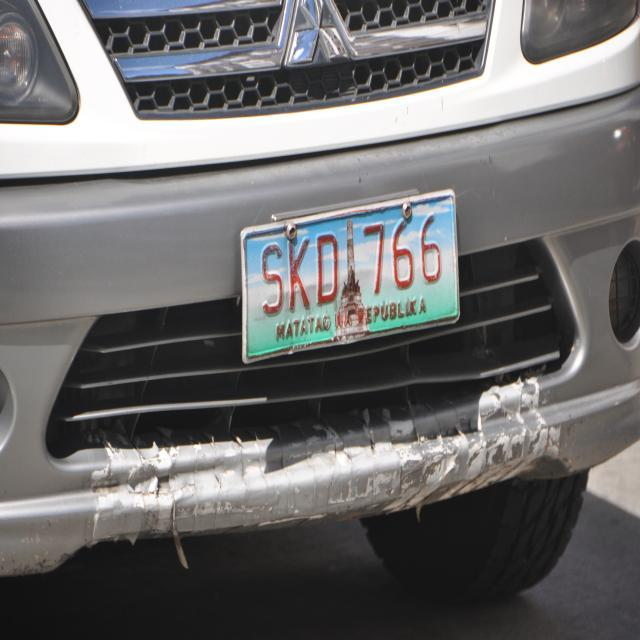LicensePlate: (230, 208, 467, 346)
